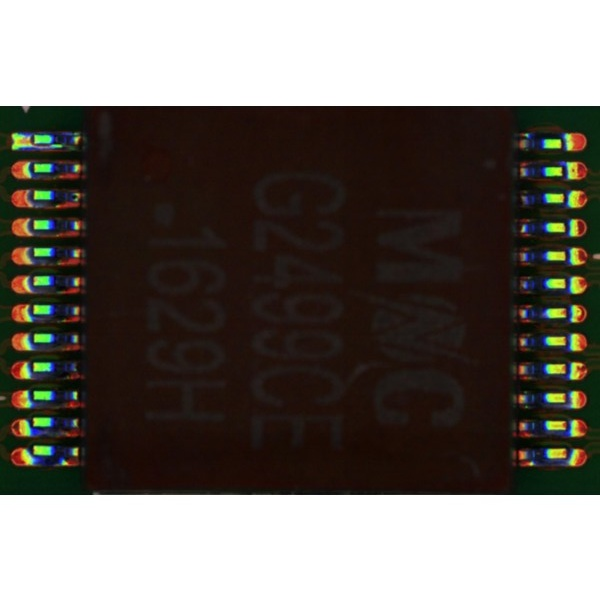Bad_podu: (23, 134, 40, 142)
Bad_qiaojiao: (34, 142, 72, 148)
